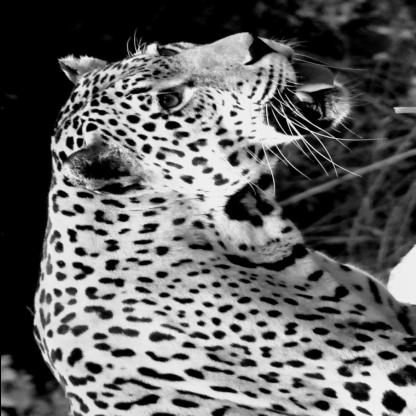leopard: (46, 26, 358, 210)
